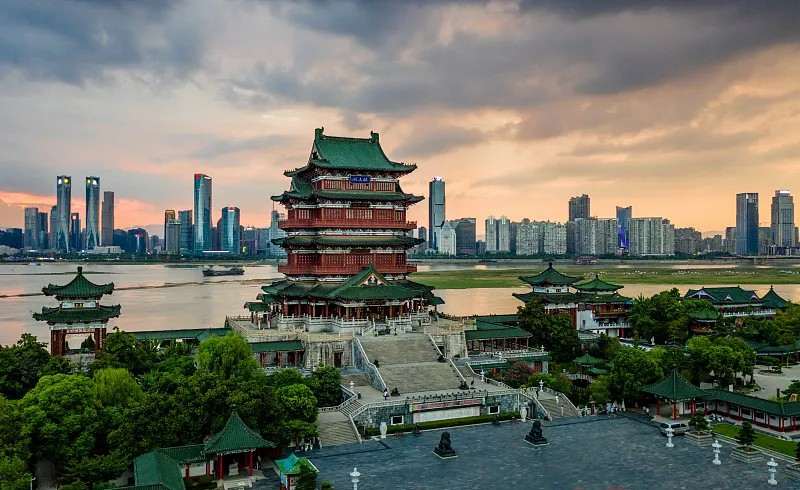Teng: (243, 126, 446, 326)
